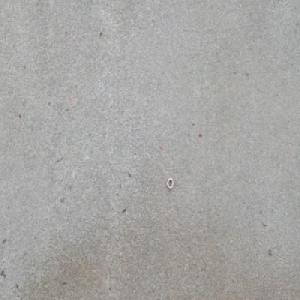Nut: (166, 177, 174, 190)
